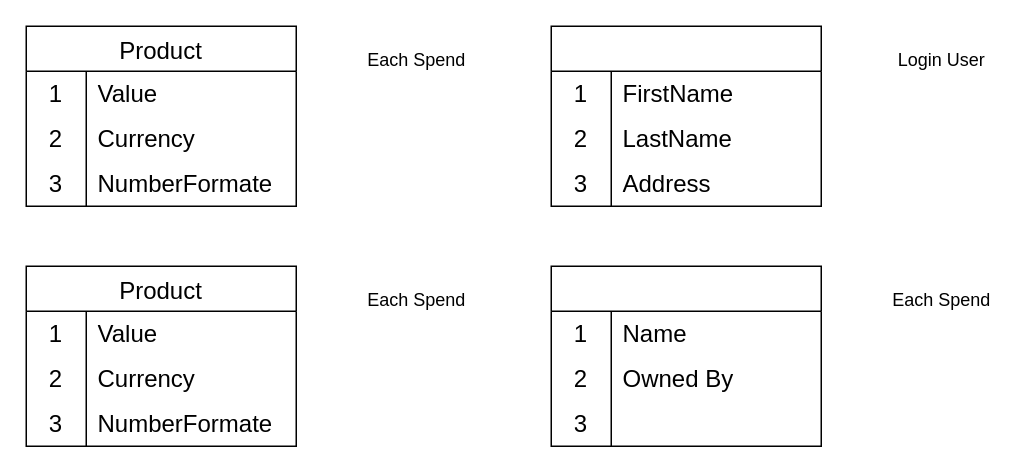
This 1035x473 diagram has some shape labels left out. Each missing label, with the box of its shape:
Project: (550, 265, 821, 446)
User: (550, 25, 821, 206)
